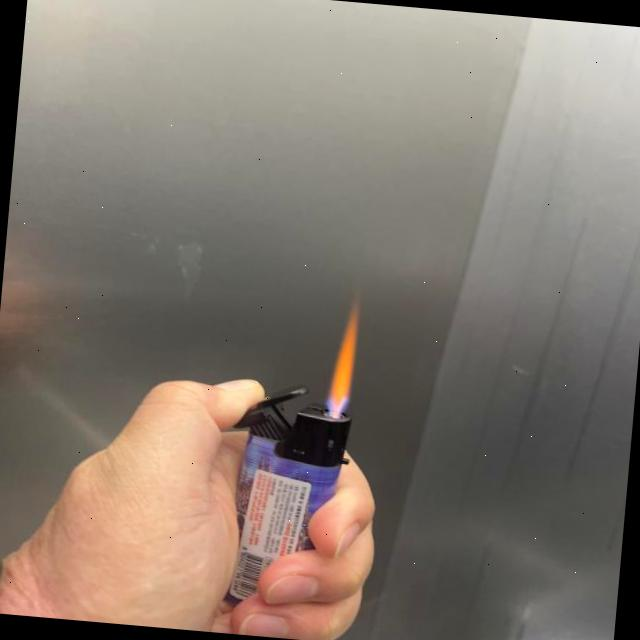fire: (323, 296, 364, 414)
